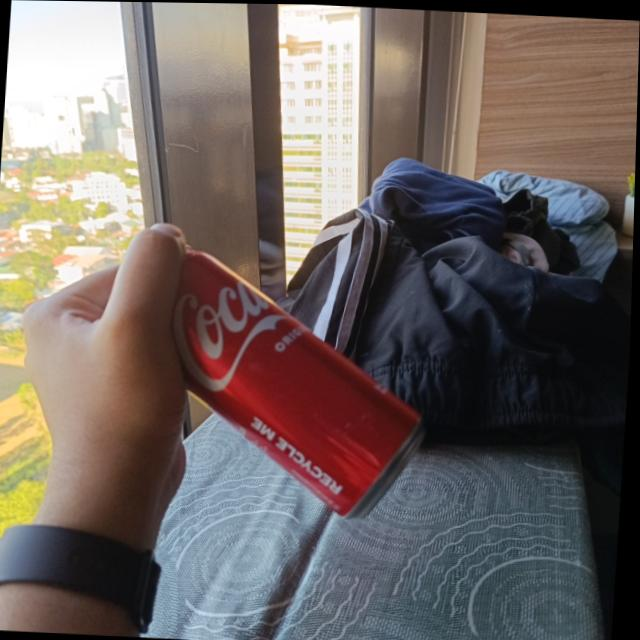coke: (153, 244, 432, 520)
